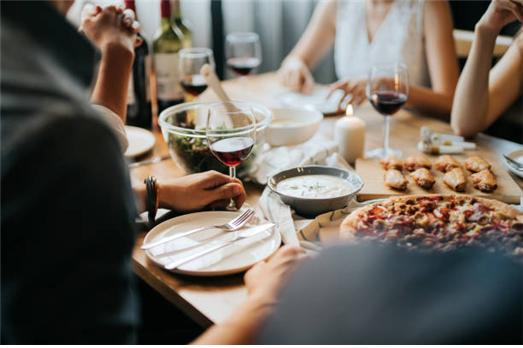alcohol: (206, 101, 257, 212), (365, 62, 410, 159), (152, 0, 187, 124), (124, 0, 150, 128), (178, 49, 212, 126), (226, 33, 261, 89), (171, 0, 191, 76)
